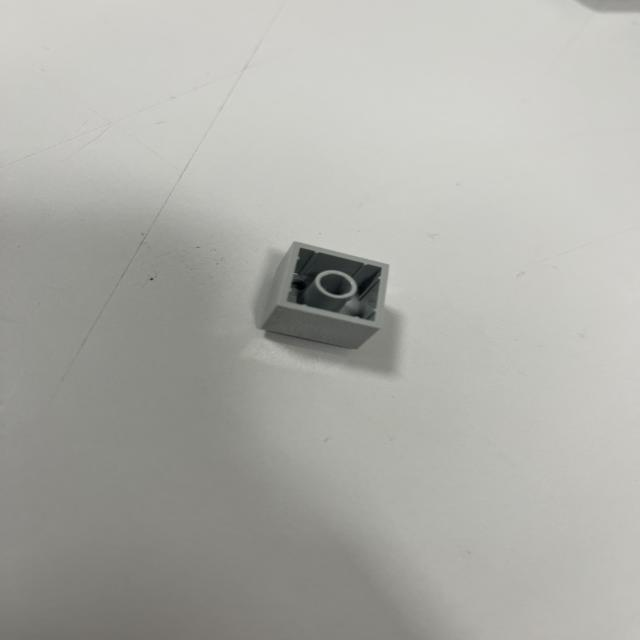C2x2x1: (262, 242, 392, 349)
